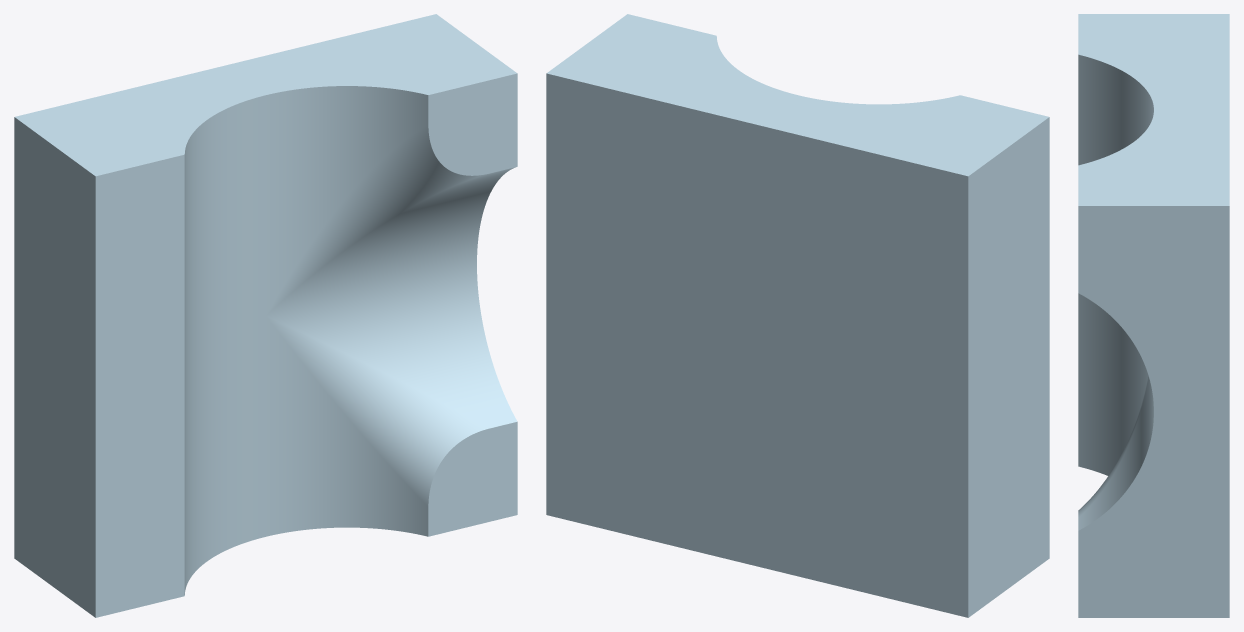
The model's file is tee.gltf.
The picture shows the model from 3 angles, left to right: view 1: azimuth 30°, elevation 25°; view 2: azimuth 150°, elevation 25°; view 3: azimuth 270°, elevation 25°; orthographic projection. The views are drawn at different scales.
Visible parts, largest first — view 1: Part 1; view 2: Part 1; view 3: Part 1.
Part boxes in pixels (<box>): Part 1: <box>14,14,517,617</box>; Part 1: <box>546,14,1049,617</box>; Part 1: <box>1078,14,1229,617</box>.
Bounding box in the file's own units: 0.0762 × 0.0762 × 0.0254.
